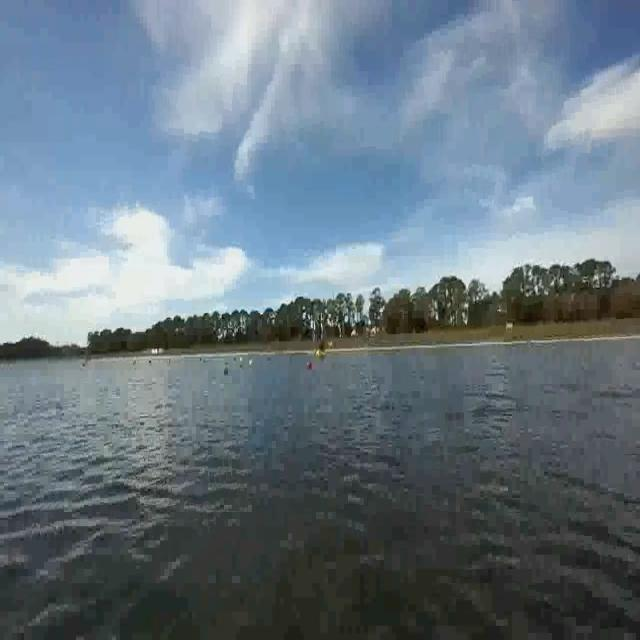red-buoy: (307, 360, 314, 370)
